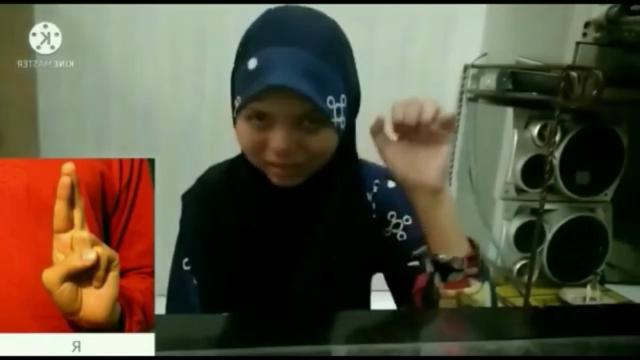R: (45, 159, 123, 331)
S: (370, 94, 464, 190)
